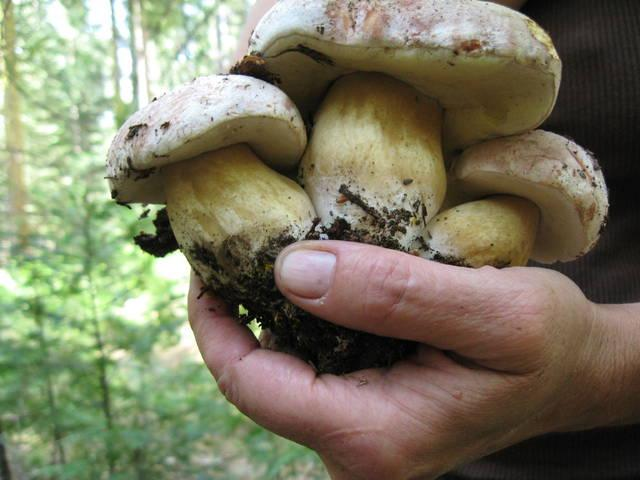edible_mushroom: (104, 0, 615, 264)
